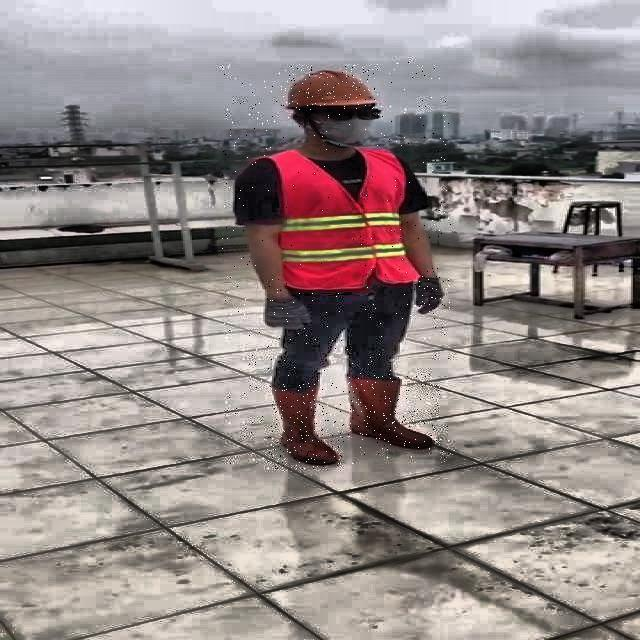safety_helmet: (281, 66, 378, 111)
safety_jacket: (260, 147, 423, 289)
